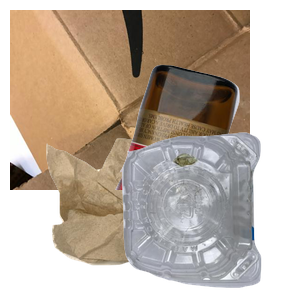cardboard: (10, 10, 250, 190)
glass: (113, 62, 300, 242)
plastic: (119, 130, 300, 300)
trash: (44, 136, 277, 300)
